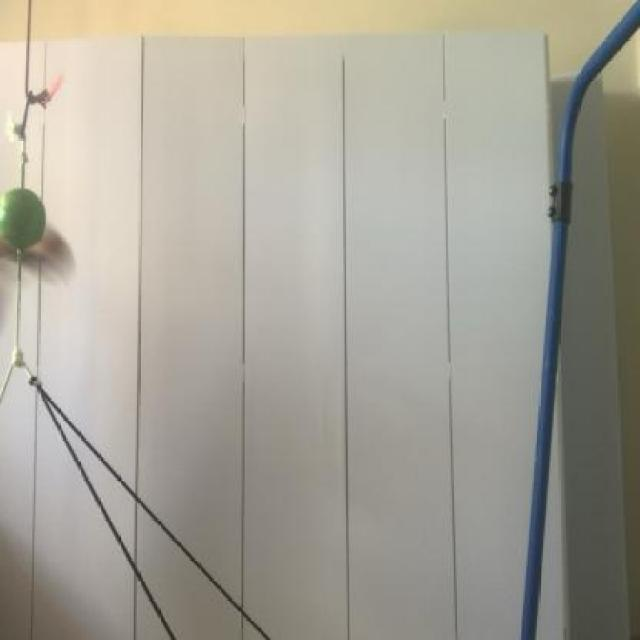baseball: (0, 172, 54, 270)
